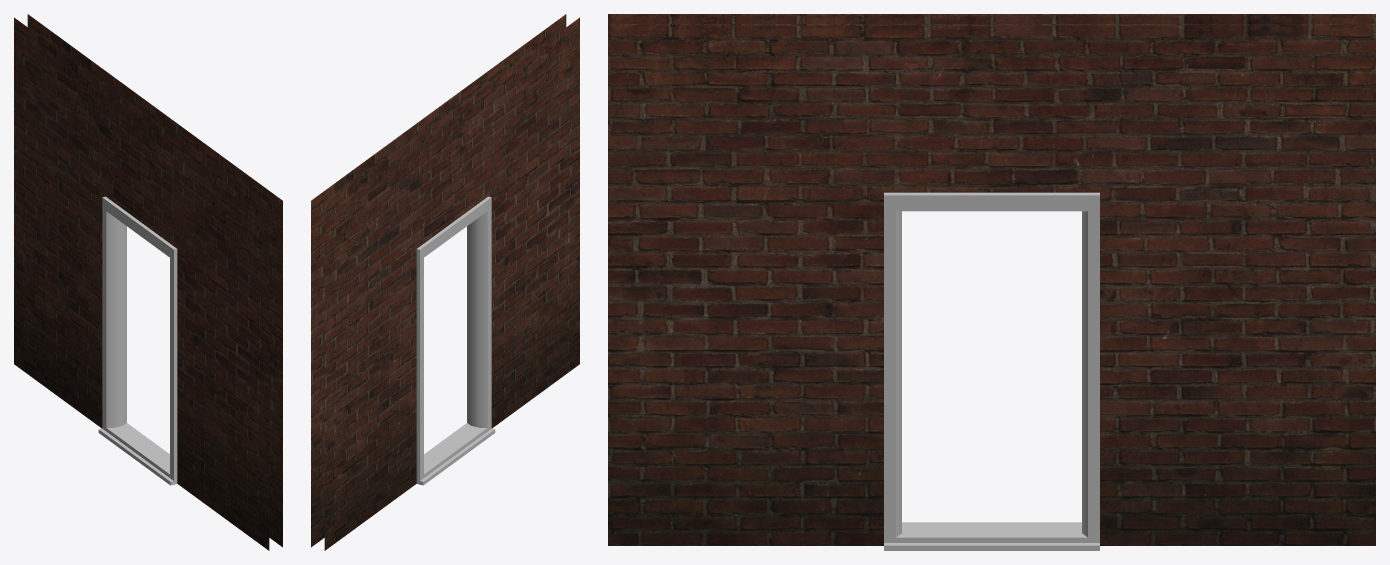
The model's file is wall_doorsmall_brick_tile_5m.fbx.
3 renders of one model, left to right at view 1: azimuth 30°, elevation 25°; view 2: azimuth 150°, elevation 25°; view 3: azimuth 270°, elevation 25°, orthographic. The views are drawn at different scales.
Parts seen in each view (by area): view 1: wall_doorsmall_brick_tile_5m; view 2: wall_doorsmall_brick_tile_5m; view 3: wall_doorsmall_brick_tile_5m.
Part boxes in pixels (x1,y1,x2,y2): wall_doorsmall_brick_tile_5m: [14, 14, 282, 550]; wall_doorsmall_brick_tile_5m: [311, 14, 579, 550]; wall_doorsmall_brick_tile_5m: [608, 14, 1375, 550].
Bounding box in the file's own units: 0.3125 × 3.75 × 5.
